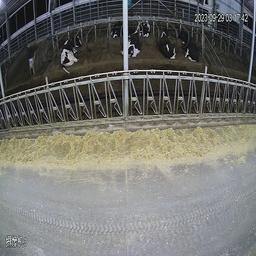cow: (178, 26, 198, 62), (62, 31, 82, 66), (159, 26, 176, 59), (127, 28, 140, 59), (139, 19, 151, 38), (111, 19, 123, 36)
